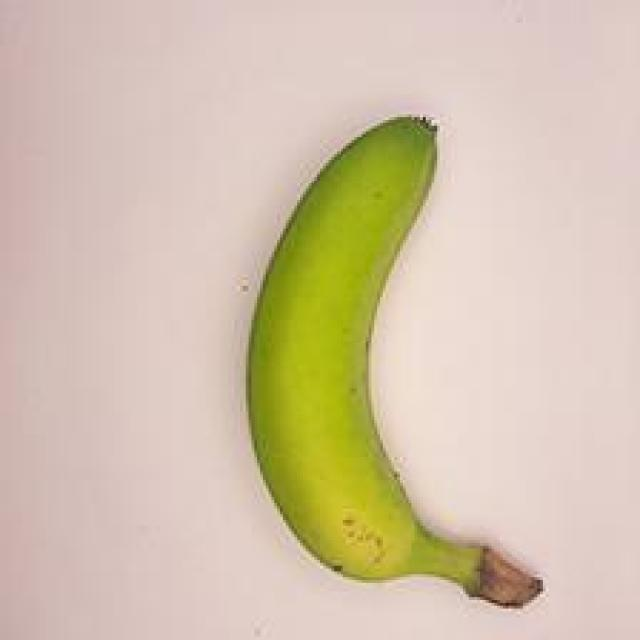Unripe: (158, 67, 593, 636)
